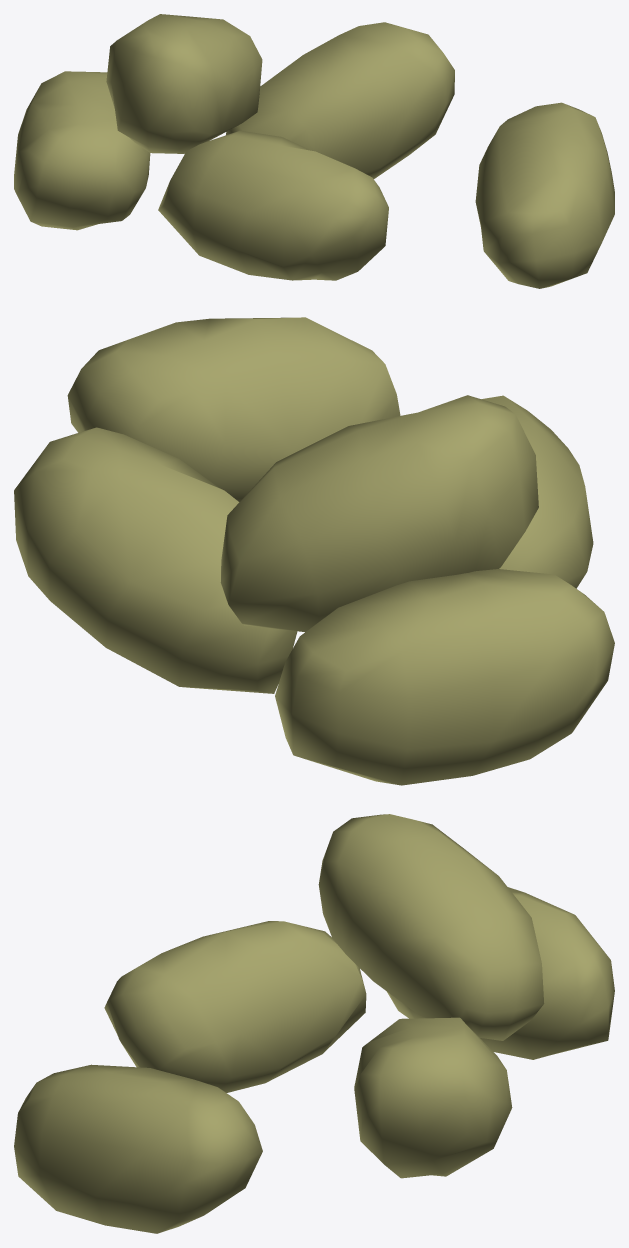
The model's file is Vegetable_Pile_01_Lod0.fbx.
3 renders of one model, top to bottom at view 1: azimuth 30°, elevation 25°; view 2: azimuth 150°, elevation 25°; view 3: azimuth 270°, elevation 25°, orthographic. The views are drawn at different scales.
Parts seen in each view (by area): view 1: Vegetable_Pile_01_Lod0; view 2: Vegetable_Pile_01_Lod0; view 3: Vegetable_Pile_01_Lod0.
Boxes of the visible parts, x1=… form: Vegetable_Pile_01_Lod0: x1=14, y1=14, x2=614, y2=288; Vegetable_Pile_01_Lod0: x1=14, y1=317, x2=614, y2=785; Vegetable_Pile_01_Lod0: x1=14, y1=814, x2=614, y2=1233.
Size of the model in its own units: 43.84 by 19.27 by 41.86.
